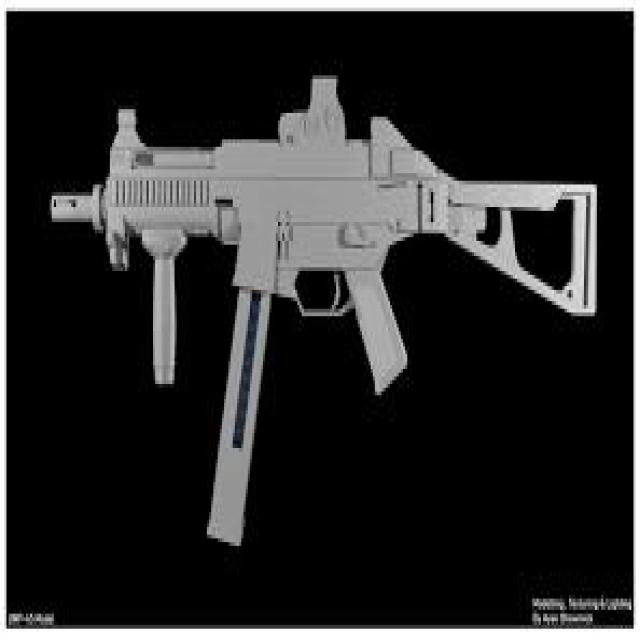Gun: (40, 74, 611, 552)
